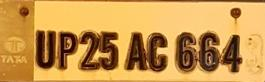2: (78, 30, 100, 72)
4: (222, 34, 245, 76)
5: (99, 30, 121, 72)
6: (197, 31, 222, 71), (175, 32, 198, 72)
A: (122, 32, 148, 74)
C: (146, 31, 172, 74)
P: (56, 28, 80, 71)
U: (33, 27, 57, 71)
